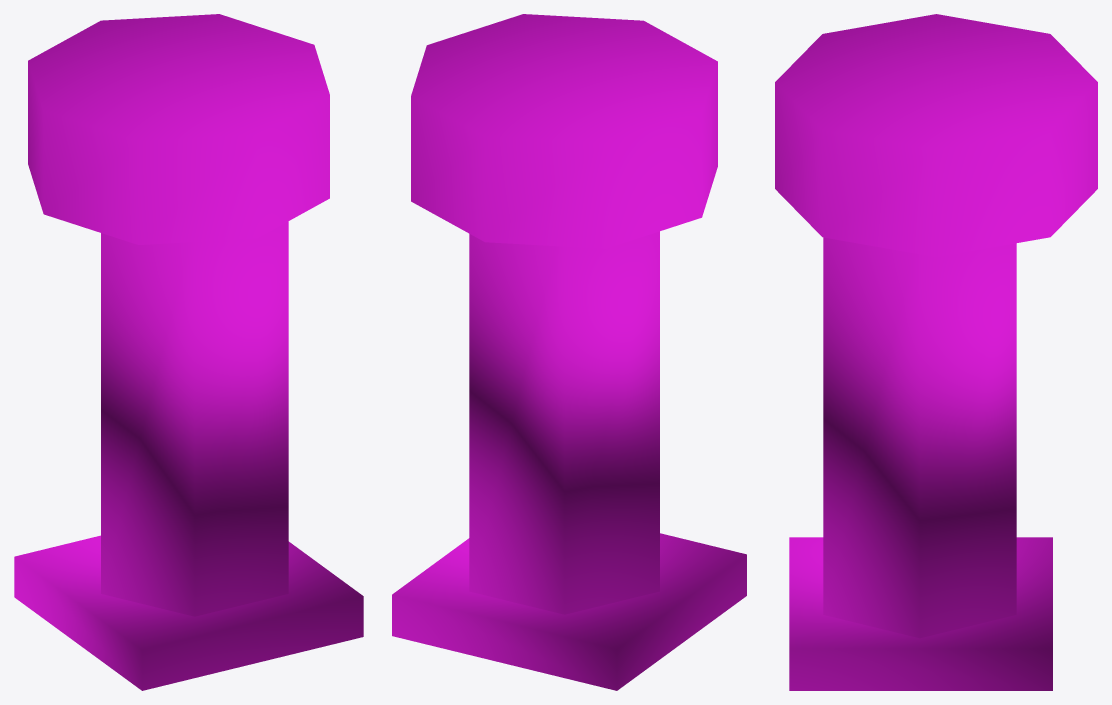
File: ps2_jrpg_sacred_shrine_acolyte_npc.obj
The picture shows the model from 3 angles, left to right: view 1: azimuth 30°, elevation 25°; view 2: azimuth 150°, elevation 25°; view 3: azimuth 270°, elevation 25°; orthographic projection. The views are drawn at different scales.
Size of the model in its own units: 1.04 by 1.96 by 1.04.
